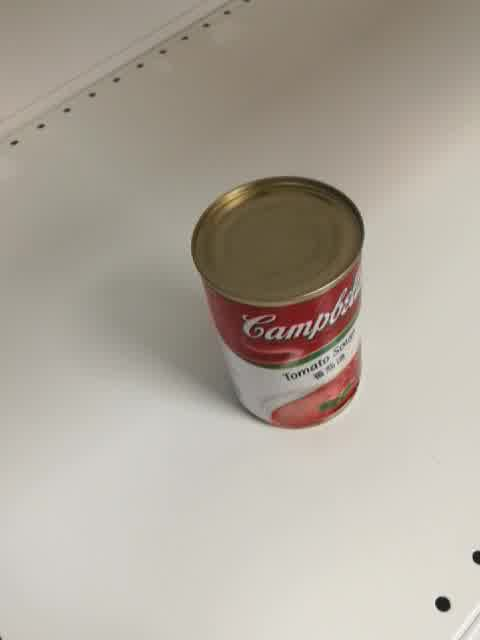tomatosoup: (189, 175, 366, 430)
